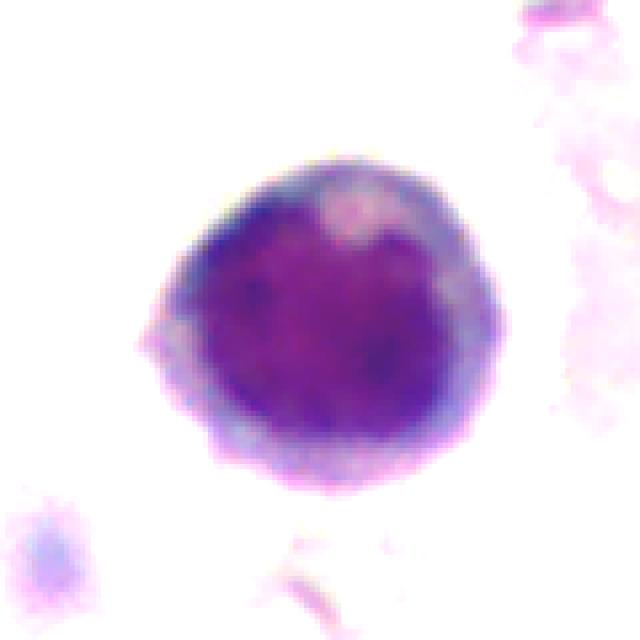WBC: (96, 134, 517, 502)
